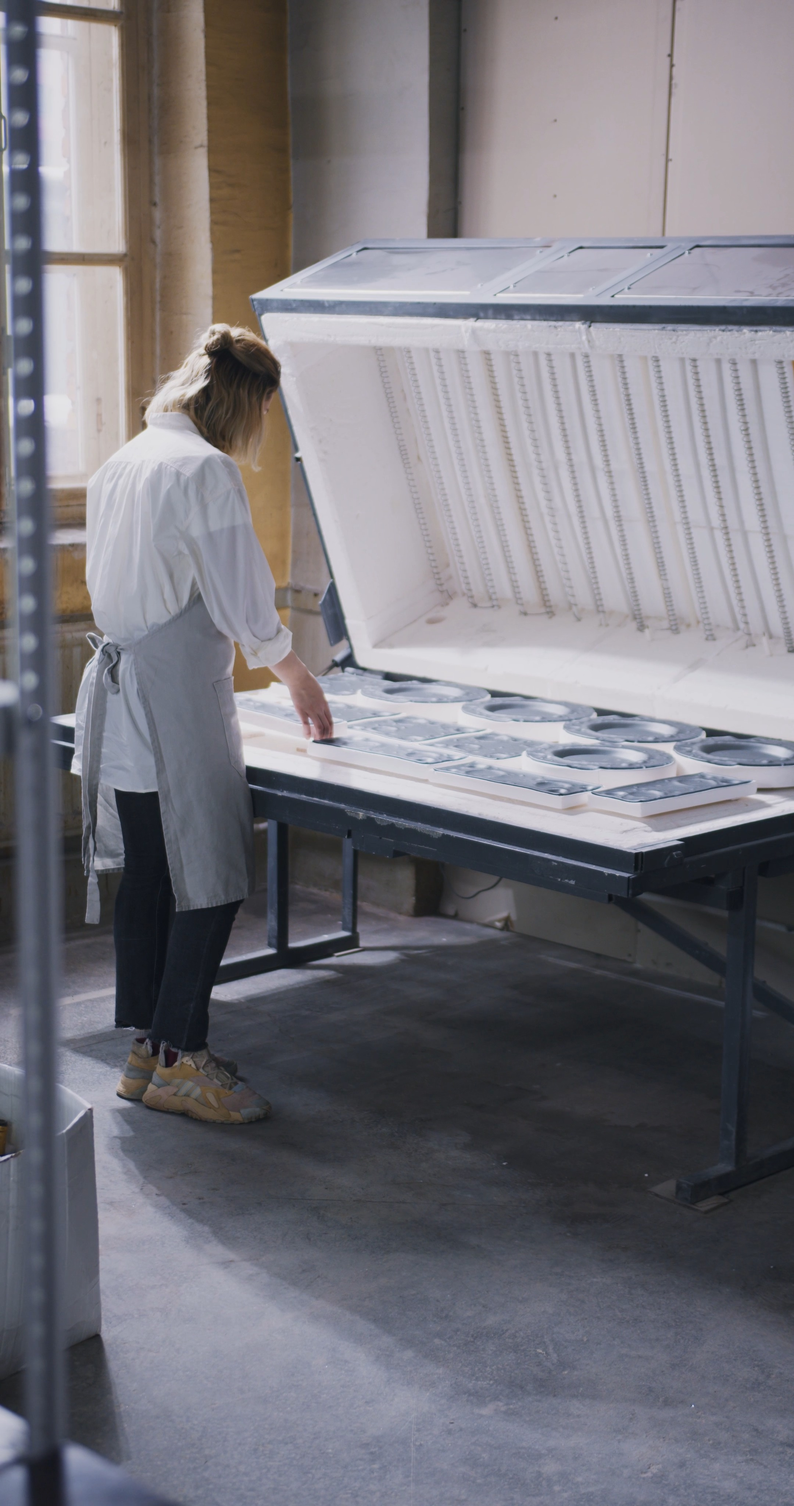No-gloves: (276, 643, 353, 756)
